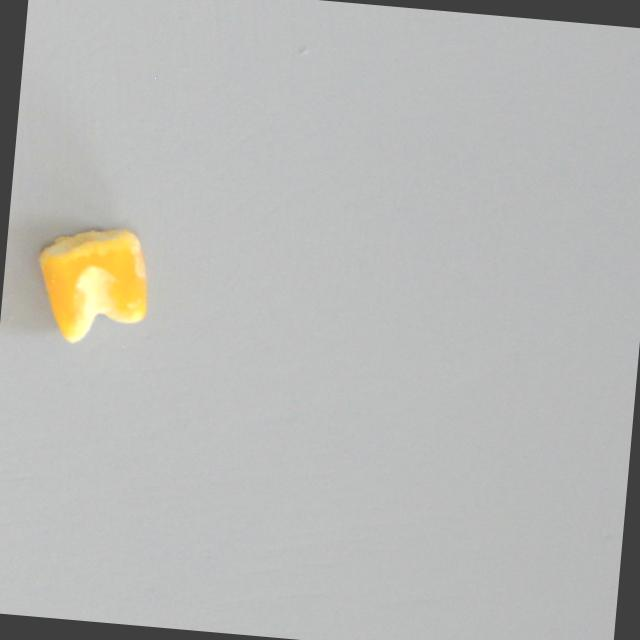pelicula: (26, 221, 152, 351)
